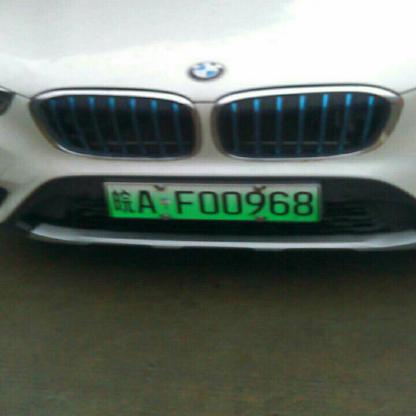lp: (104, 182, 320, 221)
